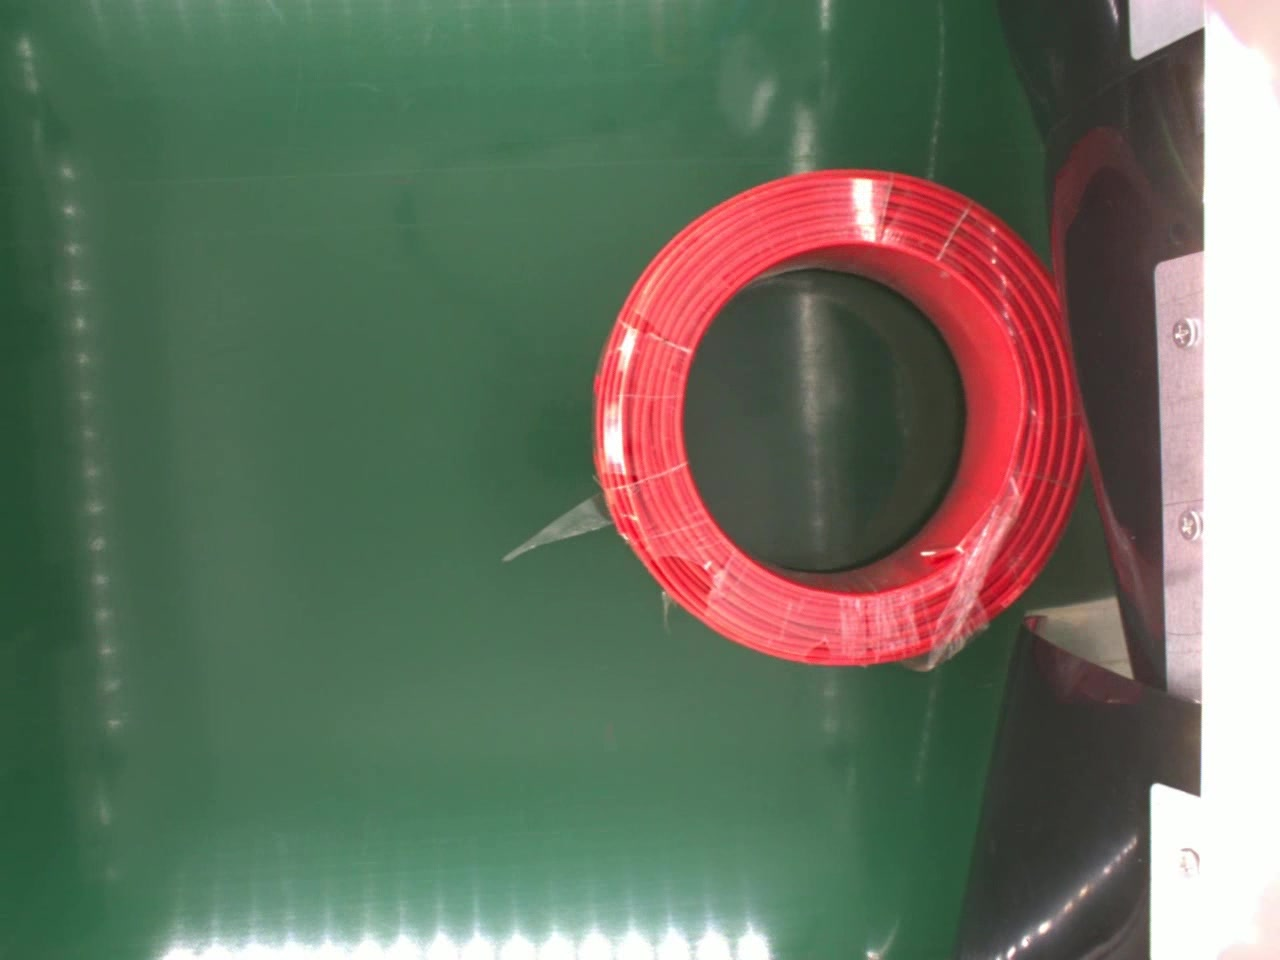red: (585, 163, 1084, 667)
